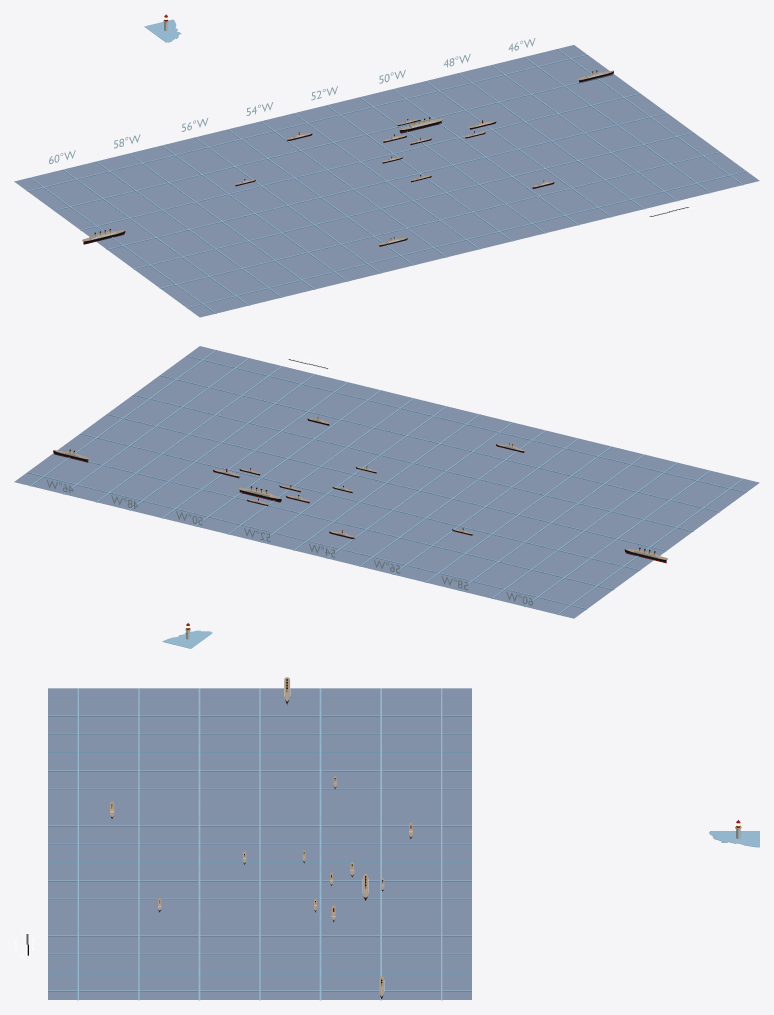
The model's file is atlantic.gltf.
3 views of the same model, one above another, from view 1: azimuth 30°, elevation 25°; view 2: azimuth 150°, elevation 25°; view 3: azimuth 270°, elevation 25° (orthographic). The views are drawn at different scales.
Parts seen in each view (by area): view 1: Grid, Longs; view 2: Grid, Longs; view 3: Grid, Canada.
Part boxes in pixels (box(x1,y1,x2,y2)): Grid: box(14, 45, 759, 317); Longs: box(49, 38, 535, 163); Grid: box(14, 346, 759, 618); Longs: box(46, 479, 532, 605); Grid: box(48, 688, 471, 1000); Canada: box(709, 831, 759, 847).
Size of the model in its own units: 351 by 9.99 by 347.
